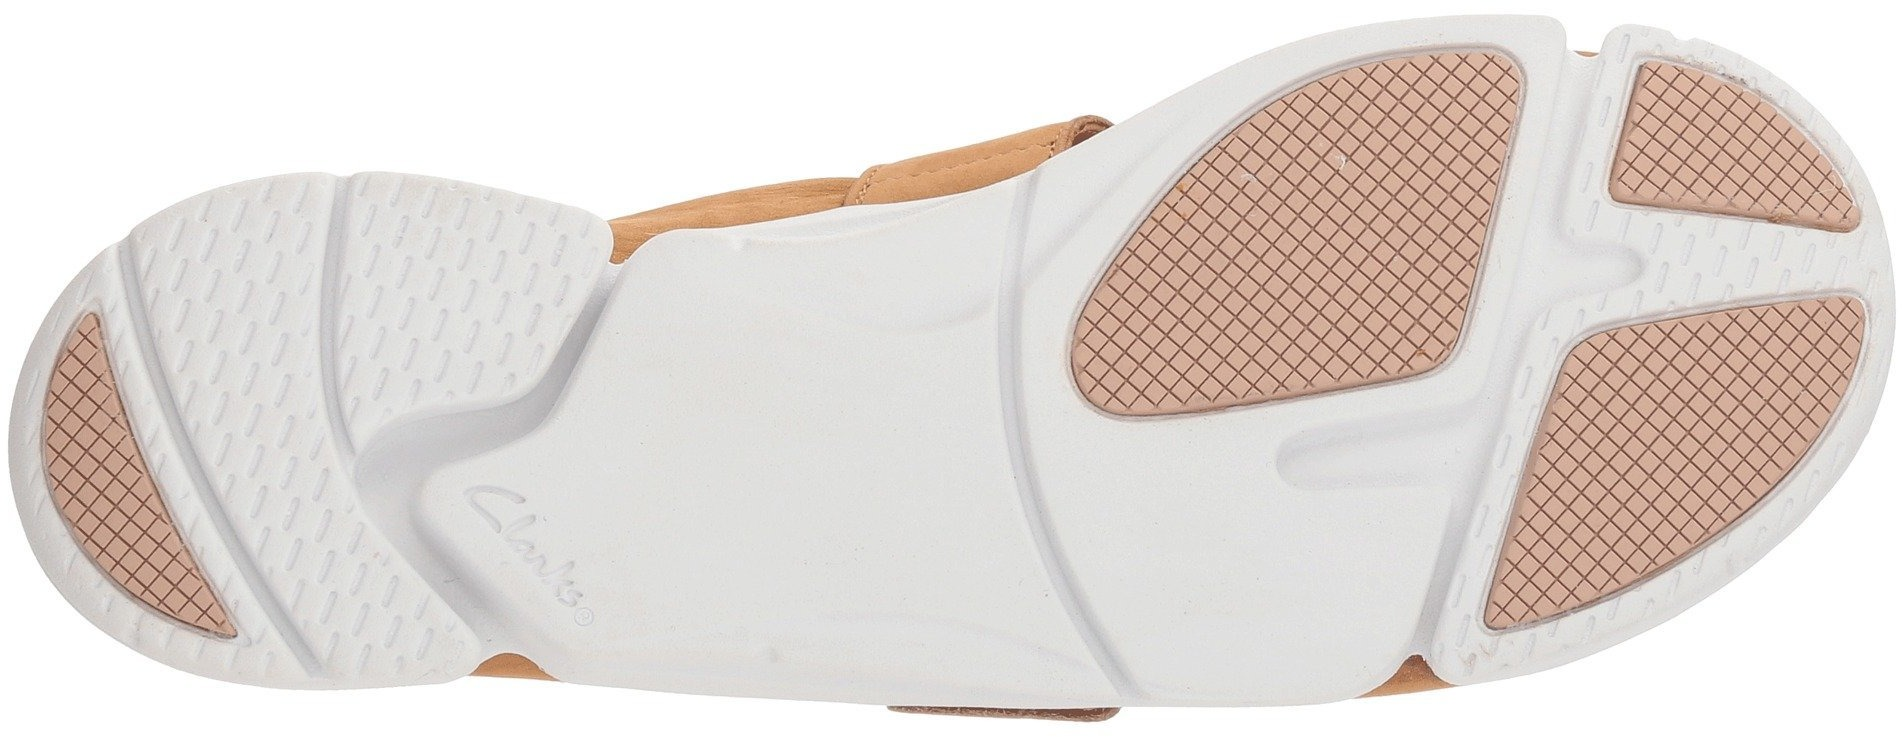exclude: (879, 699, 1141, 732)
other: (656, 425, 964, 707), (670, 235, 976, 510), (1092, 451, 1297, 641)
quad: (1240, 104, 1476, 321), (139, 223, 370, 441), (1556, 356, 1731, 521), (368, 219, 542, 383), (227, 530, 393, 680), (1107, 272, 1243, 398)
ribbon: (1477, 184, 1648, 339), (1361, 367, 1522, 514)
text: (463, 475, 554, 555), (522, 543, 596, 613)
